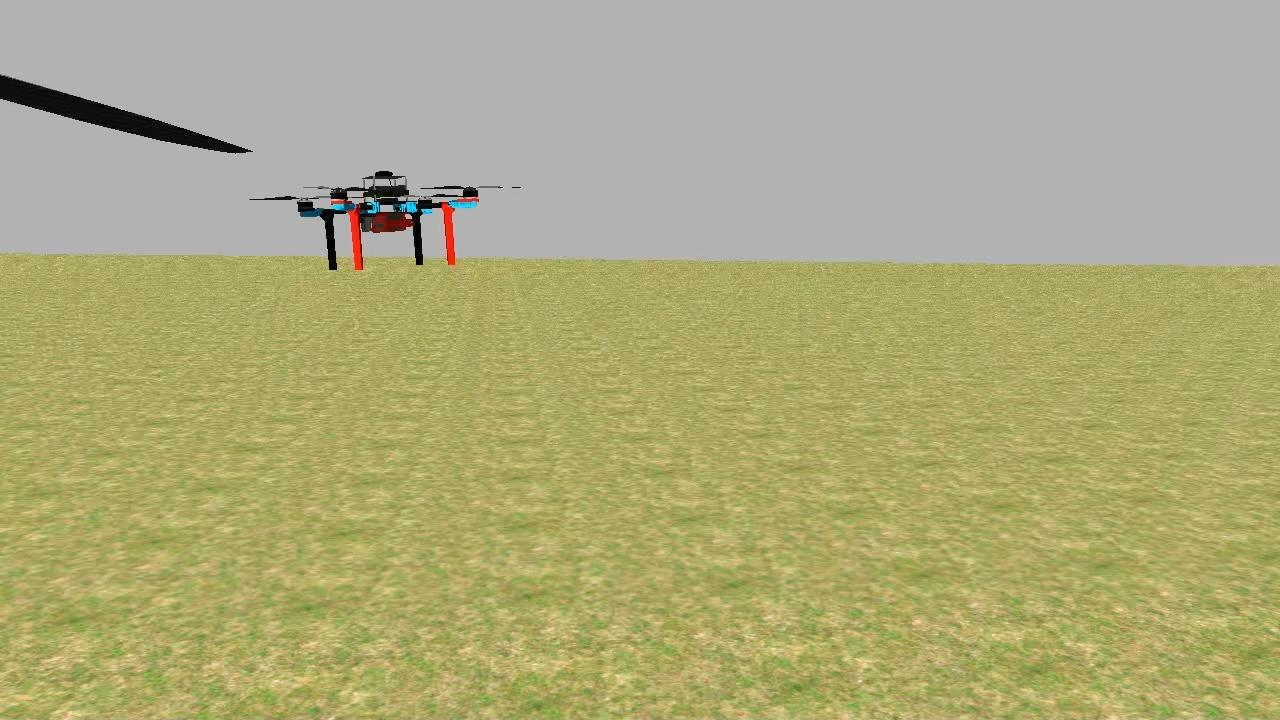UAV: (288, 164, 490, 276)
